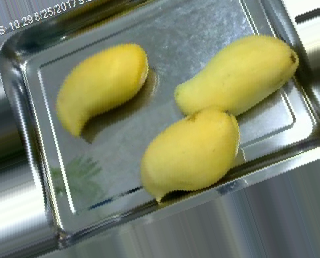Mango: (174, 34, 300, 115), (141, 107, 239, 203), (56, 42, 149, 134)
